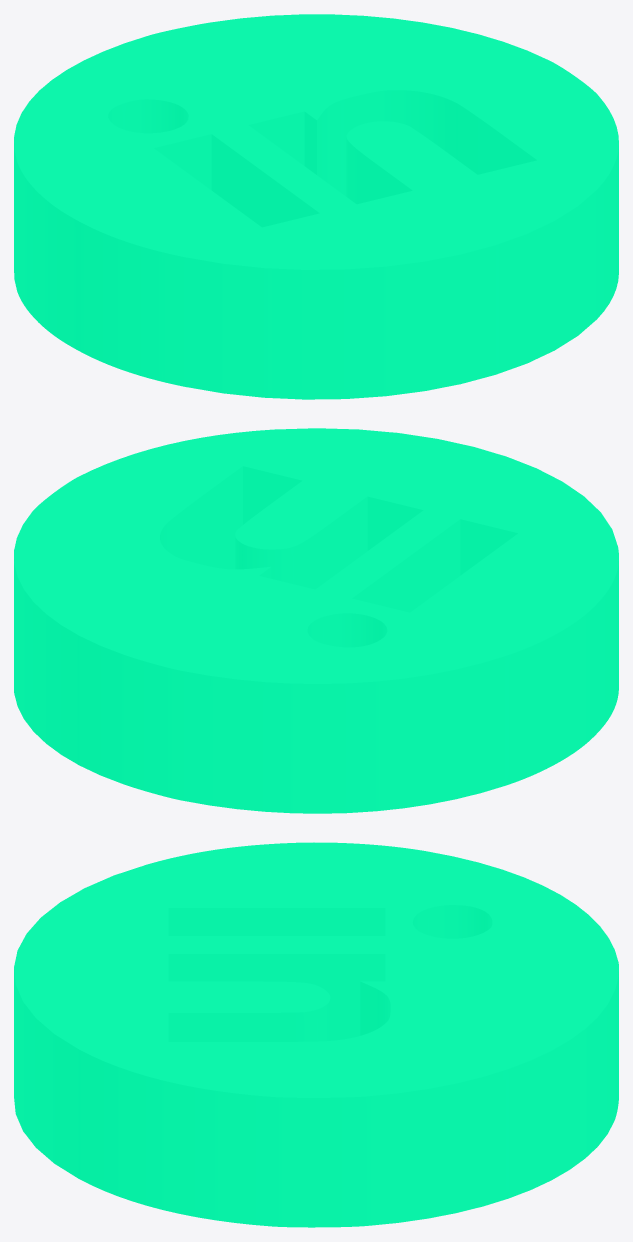
The model's file is linkedin-icon.glb.
The picture shows the model from 3 angles, top to bottom: view 1: azimuth 30°, elevation 25°; view 2: azimuth 150°, elevation 25°; view 3: azimuth 270°, elevation 25°; orthographic projection.
Visible parts, largest first — view 1: Curve; view 2: Curve; view 3: Curve.
Boxes of the visible parts, bbox=[...] form: Curve: bbox=[14, 14, 618, 399]; Curve: bbox=[14, 428, 618, 813]; Curve: bbox=[14, 842, 618, 1227].
Bounding box in the file's own units: 1.99 × 0.4717 × 2.
